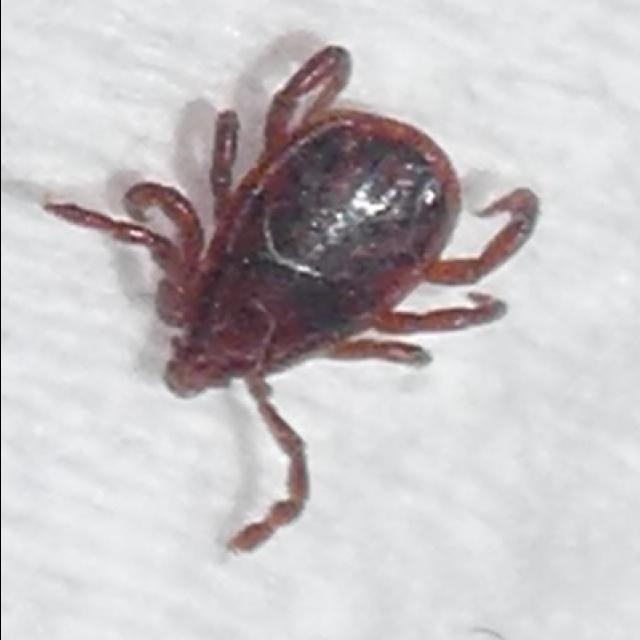Rhipicephalus Sanguineus-M: (42, 43, 538, 556)
